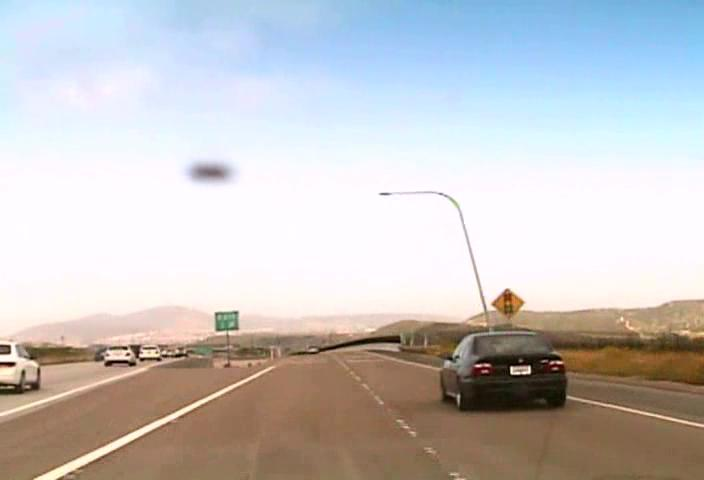signalAhead: (491, 288, 525, 321)
